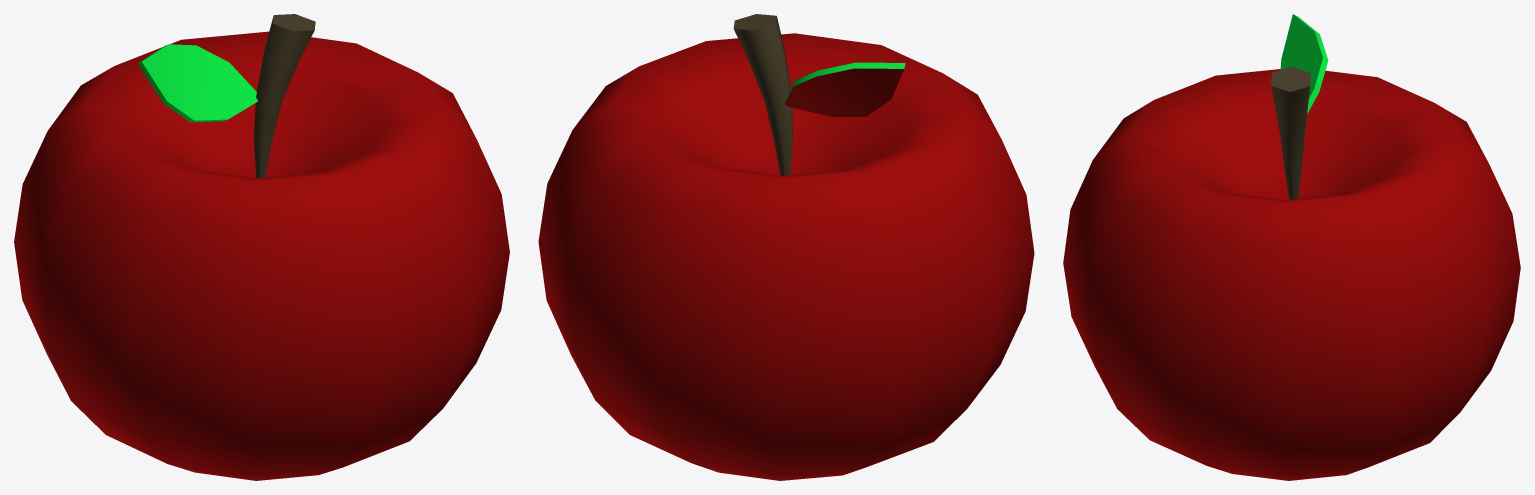
Rendered from maca.fbx.
The picture shows the model from 3 angles, left to right: view 1: azimuth 30°, elevation 25°; view 2: azimuth 150°, elevation 25°; view 3: azimuth 270°, elevation 25°; orthographic projection. The views are drawn at different scales.
Visible parts, largest first — view 1: maca; view 2: maca; view 3: maca.
Boxes of the visible parts, left/top/right/bottom form: maca: left=14, top=14, right=509, bottom=480; maca: left=538, top=14, right=1034, bottom=480; maca: left=1063, top=14, right=1520, bottom=480.
Size of the model in its own units: 28.9 by 27.03 by 28.9.
